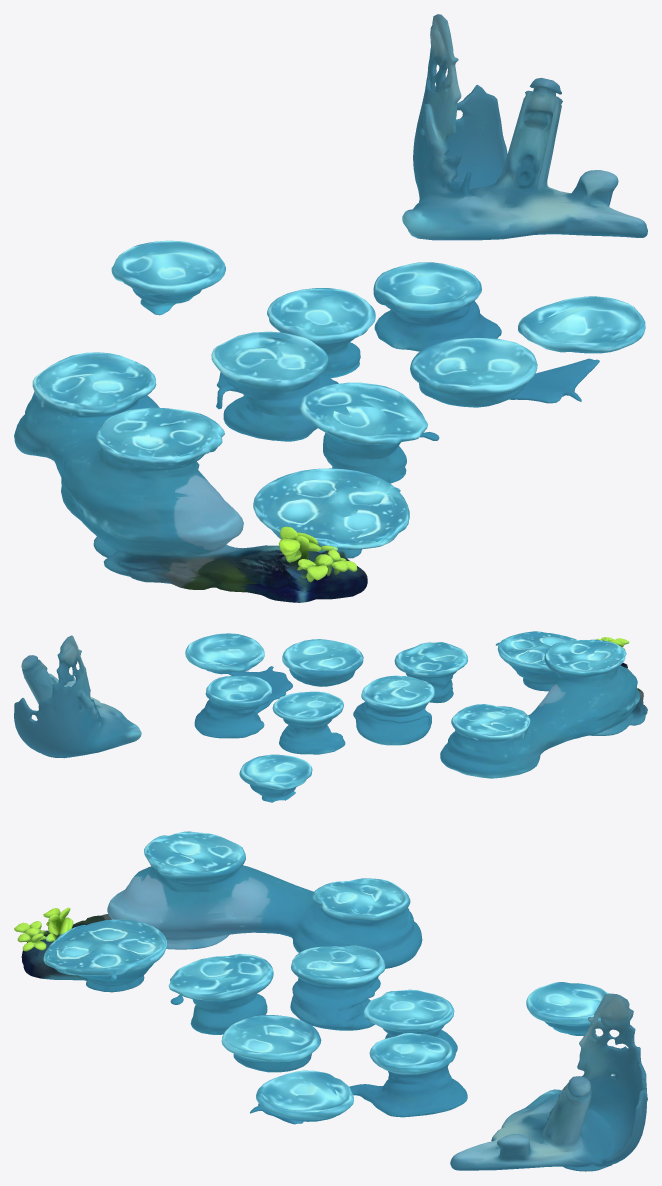
The model's file is glowing-island.glb.
3 views of the same model, one above another, from view 1: azimuth 30°, elevation 25°; view 2: azimuth 150°, elevation 25°; view 3: azimuth 270°, elevation 25° (orthographic). The views are drawn at different scales.
Parts seen in each view (by area): view 1: world; view 2: world; view 3: world.
Part boxes in pixels (x1,y1,x2,y2): world: [14, 14, 647, 602]; world: [14, 631, 647, 802]; world: [14, 831, 647, 1171].
Bounding box in the file's own units: 1 × 0.258 × 0.9552.
Materials: 1 (1 with a texture image).
